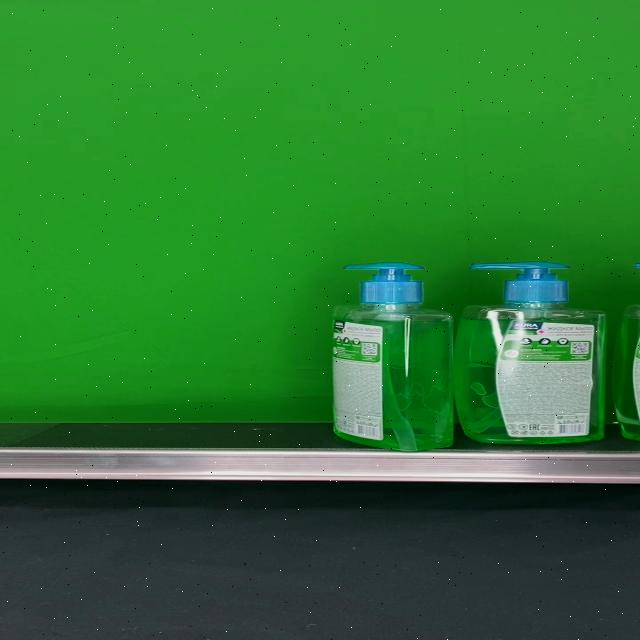Bottle: (455, 261, 604, 445), (331, 262, 455, 451)
Cap: (471, 261, 570, 303), (344, 262, 425, 304)
